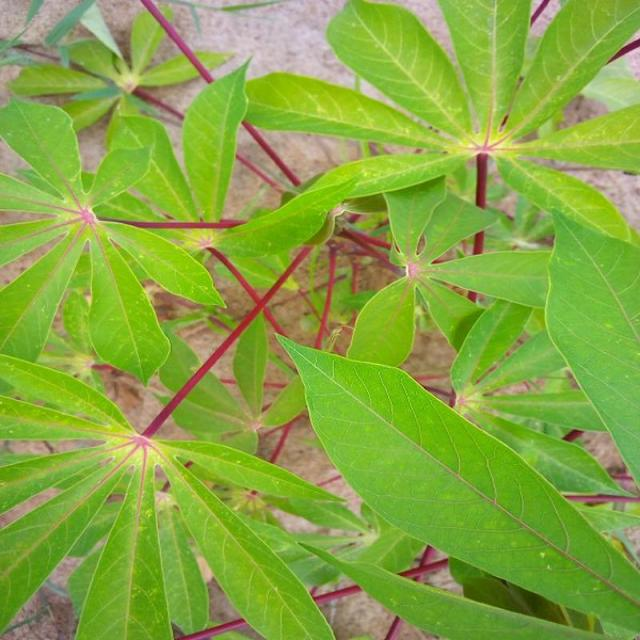cassava leaf: (1, 0, 638, 638), (273, 330, 638, 636)
